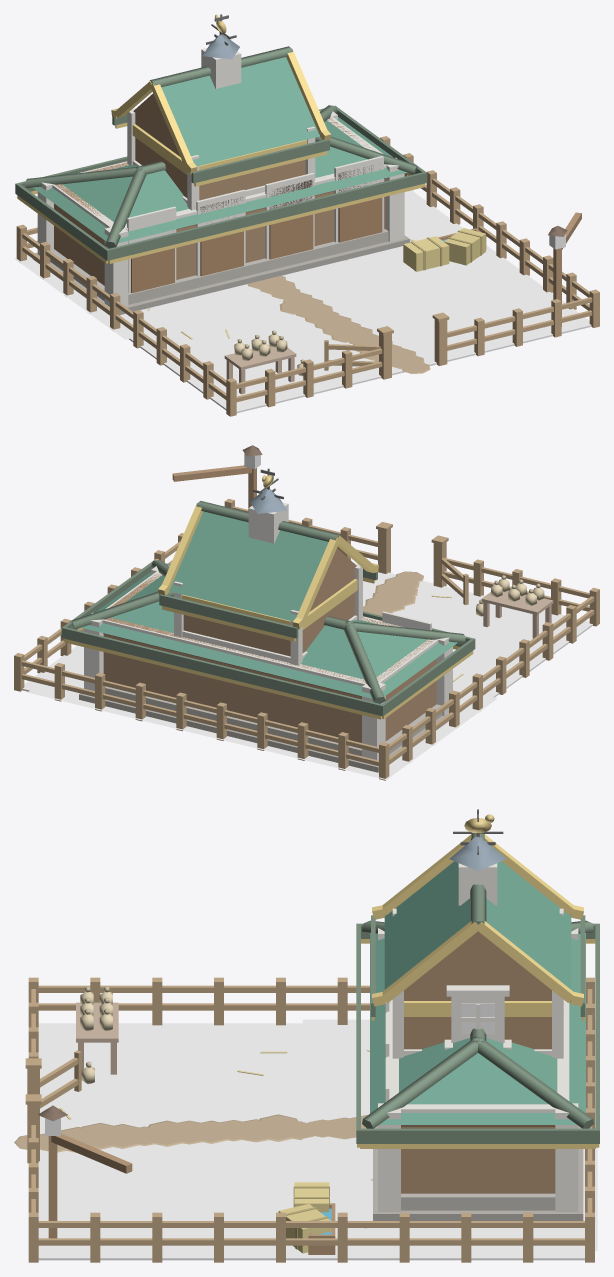
The model's file is horse_stable_2.glb.
The picture shows the model from 3 angles, top to bottom: view 1: azimuth 30°, elevation 25°; view 2: azimuth 150°, elevation 25°; view 3: azimuth 270°, elevation 25°; orthographic projection. The views are drawn at different scales.
Parts seen in each view (by area): view 1: body4, horse_stable_2; view 2: body4, horse_stable_2; view 3: body4, horse_stable_2, body3.
Part boxes in pixels (x1,y1,x2,y2): body4: (15,14,599,416); horse_stable_2: (14,196,454,339); body4: (14,445,599,780); horse_stable_2: (27,651,497,779); body4: (14,809,599,1262); horse_stable_2: (302,1019,597,1250); body3: (80,1008,112,1084).
Size of the model in its own units: 2.8 by 1.64 by 2.75.
